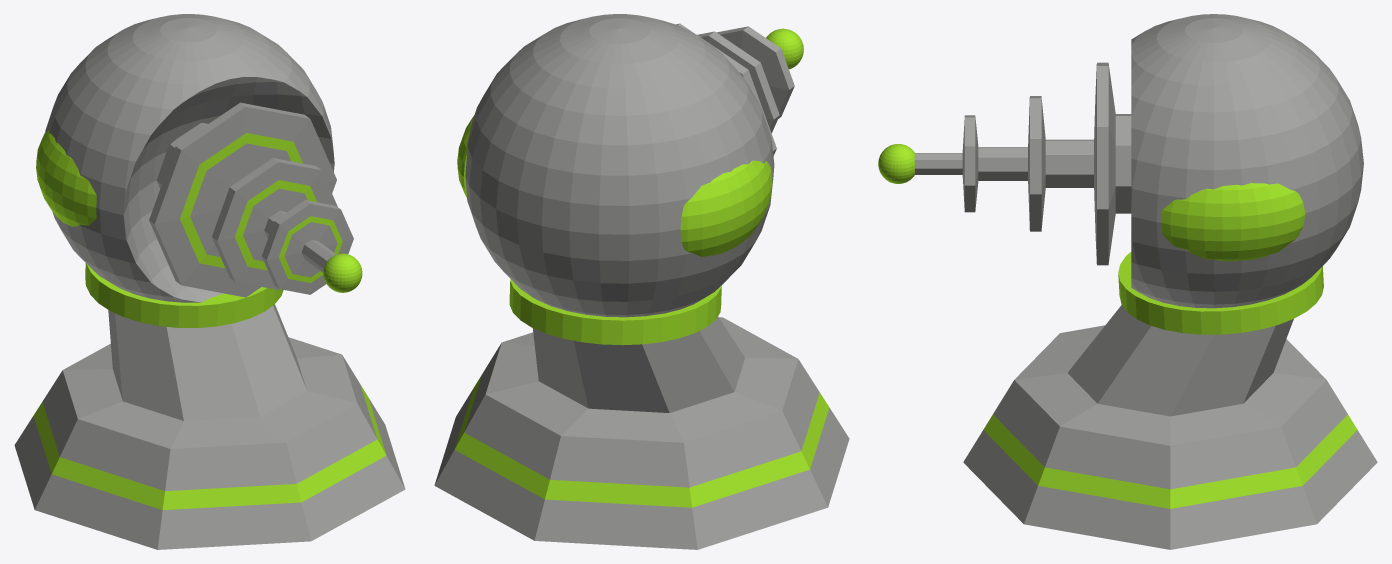
The model's file is Laser_Tower.fbx.
3 views of the same model, side by side, from view 1: azimuth 30°, elevation 25°; view 2: azimuth 150°, elevation 25°; view 3: azimuth 270°, elevation 25° (orthographic). The views are drawn at different scales.
Parts seen in each view (by area): view 1: Sphere; view 2: Sphere; view 3: Sphere.
Part boxes in pixels (x1=…): Sphere: x1=14, y1=14, x2=405, y2=549; Sphere: x1=434, y1=14, x2=849, y2=549; Sphere: x1=878, y1=14, x2=1377, y2=549.
Size of the model in its own units: 445 by 514 by 536.
1 material, 1 textured.
